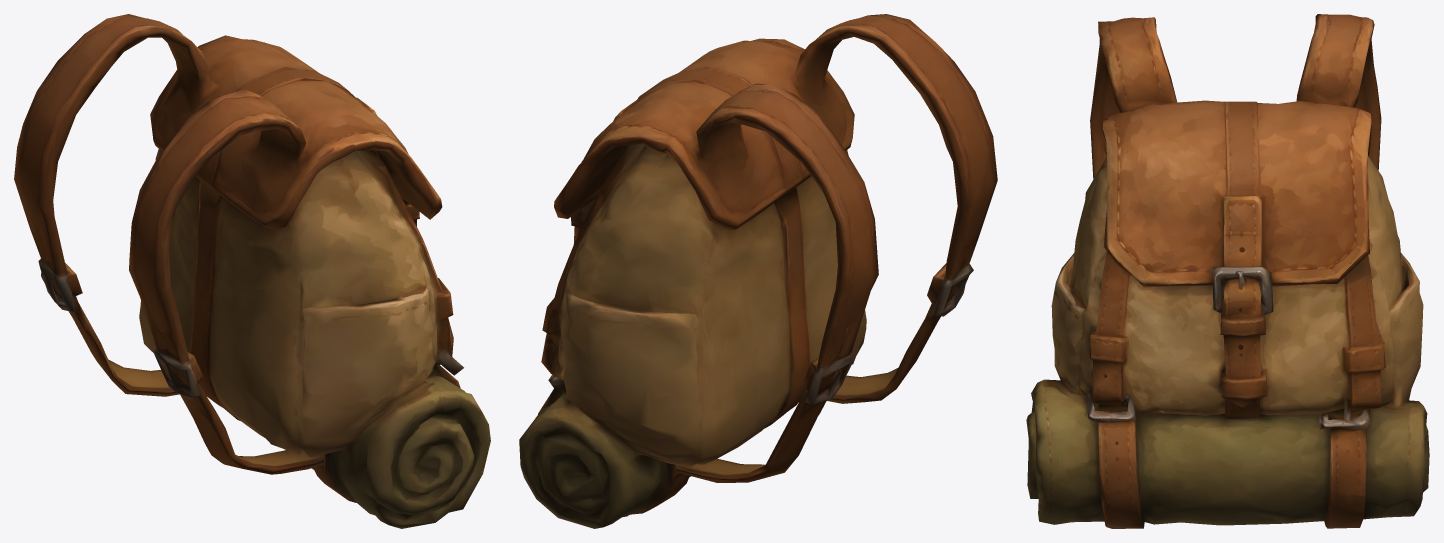
The picture shows the model from 3 angles, left to right: view 1: azimuth 30°, elevation 25°; view 2: azimuth 150°, elevation 25°; view 3: azimuth 270°, elevation 25°; orthographic projection. The views are drawn at different scales.
Visible parts, largest first — view 1: tripo_node_1c6ac816-06af-4b3c-bd89-4e93f0d1985b; view 2: tripo_node_1c6ac816-06af-4b3c-bd89-4e93f0d1985b; view 3: tripo_node_1c6ac816-06af-4b3c-bd89-4e93f0d1985b.
Boxes of the visible parts, x1,y1,x2,y2 form: tripo_node_1c6ac816-06af-4b3c-bd89-4e93f0d1985b: (14,14,490,528); tripo_node_1c6ac816-06af-4b3c-bd89-4e93f0d1985b: (519,14,997,528); tripo_node_1c6ac816-06af-4b3c-bd89-4e93f0d1985b: (1026,14,1429,528).
Bounding box in the file's own units: 0.7996 × 1 × 0.8464.
Materials: 1 (1 with a texture image).
